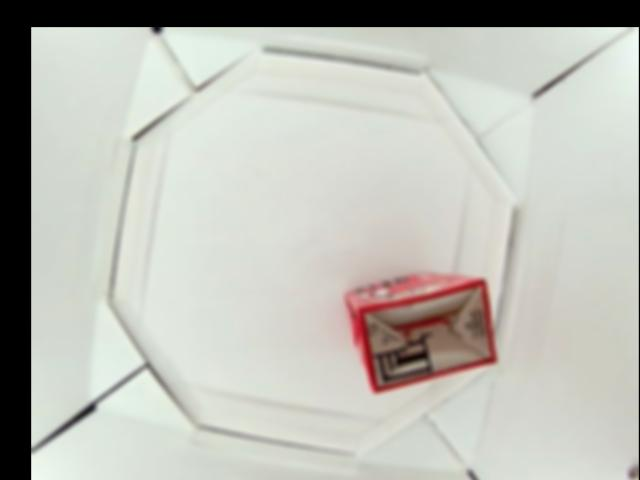Bottle: (345, 271, 499, 391)
